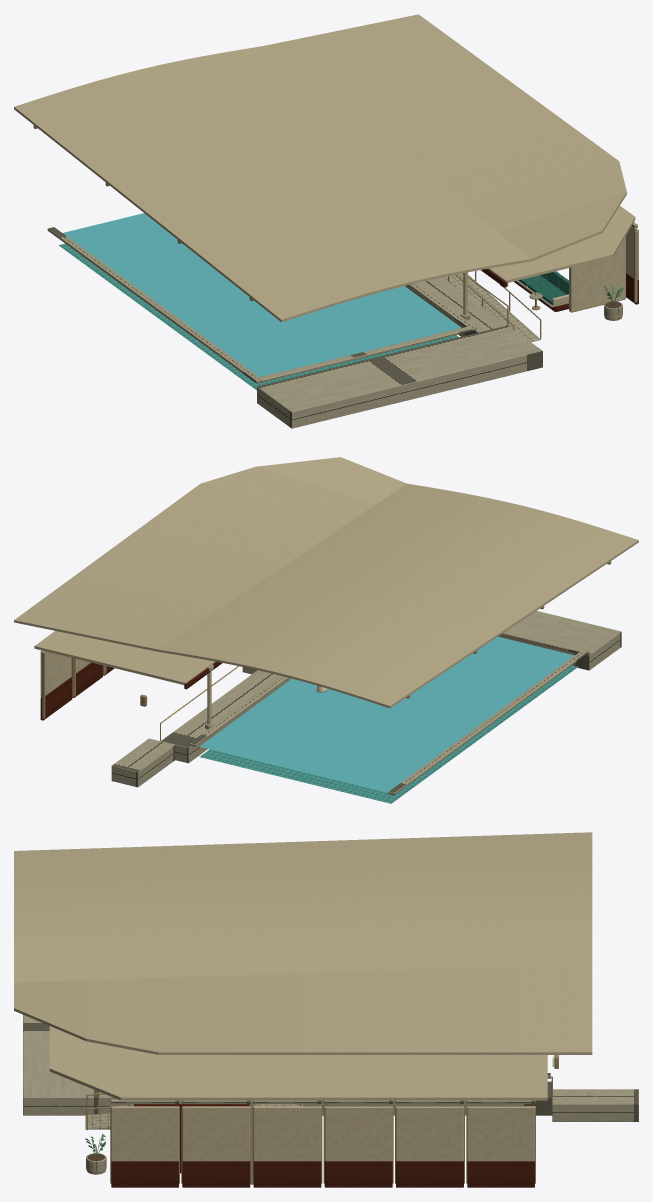
File: Group6TidalNorthRoom_r001.glb
3 views of the same model, one above another, from view 1: azimuth 30°, elevation 25°; view 2: azimuth 150°, elevation 25°; view 3: azimuth 270°, elevation 25° (orthographic). The views are drawn at different scales.
Parts seen in each view (by area): view 1: G6_TIDAL__water_face, G6_TIDAL__north_wet_turn, G6_TIDAL__vault_infill_7, G6_TIDAL__vault_infill_4, G6_TIDAL__vault_infill_0, G6_TIDAL__vault_infill_1, G6_TIDAL__vault_infill_2, G6_TIDAL__vault_infill_6, G6_TIDAL__vault_infill_5, G6_TIDAL__vault_infill_3, G6_TIDAL__east_roof_infill_5, G6_TIDAL__east_roof_infill_4 (+13 smaller); view 2: G6_TIDAL__water_face, G6_TIDAL__vault_infill_0, G6_TIDAL__vault_infill_4, G6_TIDAL__vault_infill_2, G6_TIDAL__vault_infill_1, G6_TIDAL__vault_infill_5, G6_TIDAL__vault_infill_3, G6_TIDAL__vault_infill_6, G6_TIDAL__vault_infill_7, G6_TIDAL__east_roof_infill_0, G6_TIDAL__east_roof_infill_5, G6_TIDAL__east_roof_infill_4 (+15 smaller); view 3: G6_TIDAL__vault_infill_1, G6_TIDAL__vault_infill_7, G6_TIDAL__vault_infill_3, G6_TIDAL__vault_infill_6, G6_TIDAL__vault_infill_0, G6_TIDAL__vault_infill_2, G6_TIDAL__vault_infill_5, G6_TIDAL__vault_infill_4, G6_TIDAL__east_roof_infill_0, G6_TIDAL__east_roof_infill_1, G6_TIDAL__east_roof_infill_2, G6_TIDAL__east_roof_infill_3 (+27 smaller).
Boxes of the visible parts, left/top/right/bottom form: G6_TIDAL__water_face: left=63, top=213, right=461, bottom=377; G6_TIDAL__north_wet_turn: left=257, top=325, right=542, bottom=428; G6_TIDAL__vault_infill_7: left=248, top=232, right=530, bottom=322; G6_TIDAL__vault_infill_4: left=147, top=152, right=430, bottom=241; G6_TIDAL__vault_infill_0: left=14, top=46, right=296, bottom=135; G6_TIDAL__vault_infill_1: left=47, top=72, right=329, bottom=162; G6_TIDAL__vault_infill_2: left=81, top=99, right=363, bottom=188; G6_TIDAL__vault_infill_6: left=214, top=206, right=497, bottom=295; G6_TIDAL__vault_infill_5: left=181, top=179, right=463, bottom=268; G6_TIDAL__vault_infill_3: left=114, top=126, right=396, bottom=215; G6_TIDAL__east_roof_infill_5: left=431, top=137, right=618, bottom=205; G6_TIDAL__east_roof_infill_4: left=397, top=112, right=585, bottom=178; G6_TIDAL__water_face: left=199, top=636, right=574, bottom=792; G6_TIDAL__vault_infill_0: left=158, top=629, right=421, bottom=708; G6_TIDAL__vault_infill_4: left=283, top=546, right=545, bottom=624; G6_TIDAL__vault_infill_2: left=221, top=587, right=483, bottom=666; G6_TIDAL__vault_infill_1: left=189, top=608, right=452, bottom=687; G6_TIDAL__vault_infill_5: left=314, top=525, right=576, bottom=604; G6_TIDAL__vault_infill_3: left=252, top=566, right=514, bottom=645; G6_TIDAL__vault_infill_6: left=345, top=504, right=607, bottom=583; G6_TIDAL__vault_infill_7: left=376, top=483, right=638, bottom=562; G6_TIDAL__east_roof_infill_0: left=14, top=597, right=188, bottom=651; G6_TIDAL__east_roof_infill_5: left=170, top=483, right=344, bottom=545; G6_TIDAL__east_roof_infill_4: left=138, top=506, right=313, bottom=566; G6_TIDAL__vault_infill_1: left=447, top=834, right=519, bottom=968; G6_TIDAL__vault_infill_7: left=14, top=848, right=86, bottom=982; G6_TIDAL__vault_infill_3: left=303, top=839, right=375, bottom=973; G6_TIDAL__vault_infill_6: left=86, top=846, right=158, bottom=980; G6_TIDAL__vault_infill_0: left=520, top=832, right=592, bottom=966; G6_TIDAL__vault_infill_2: left=375, top=837, right=447, bottom=970; G6_TIDAL__vault_infill_5: left=158, top=844, right=230, bottom=977; G6_TIDAL__vault_infill_4: left=231, top=841, right=302, bottom=975; G6_TIDAL__east_roof_infill_0: left=520, top=964, right=592, bottom=1054; G6_TIDAL__east_roof_infill_1: left=447, top=966, right=519, bottom=1054; G6_TIDAL__east_roof_infill_2: left=375, top=968, right=447, bottom=1054; G6_TIDAL__east_roof_infill_3: left=303, top=971, right=375, bottom=1054.
Size of the model in its own units: 22.7 by 7.46 by 28.1.
10 materials, 5 textured.
